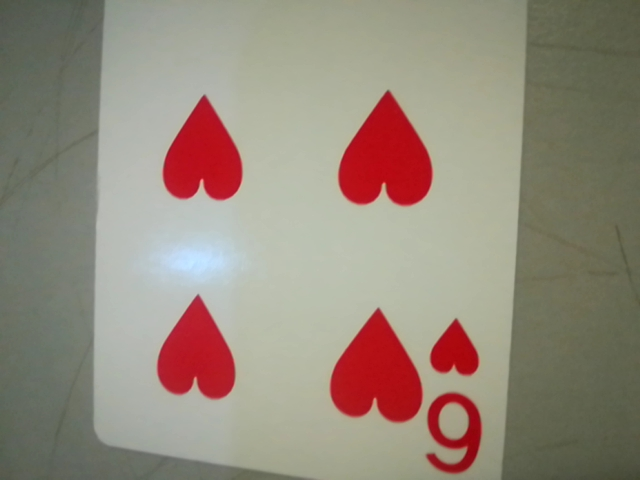hx 6: (416, 307, 500, 480)
